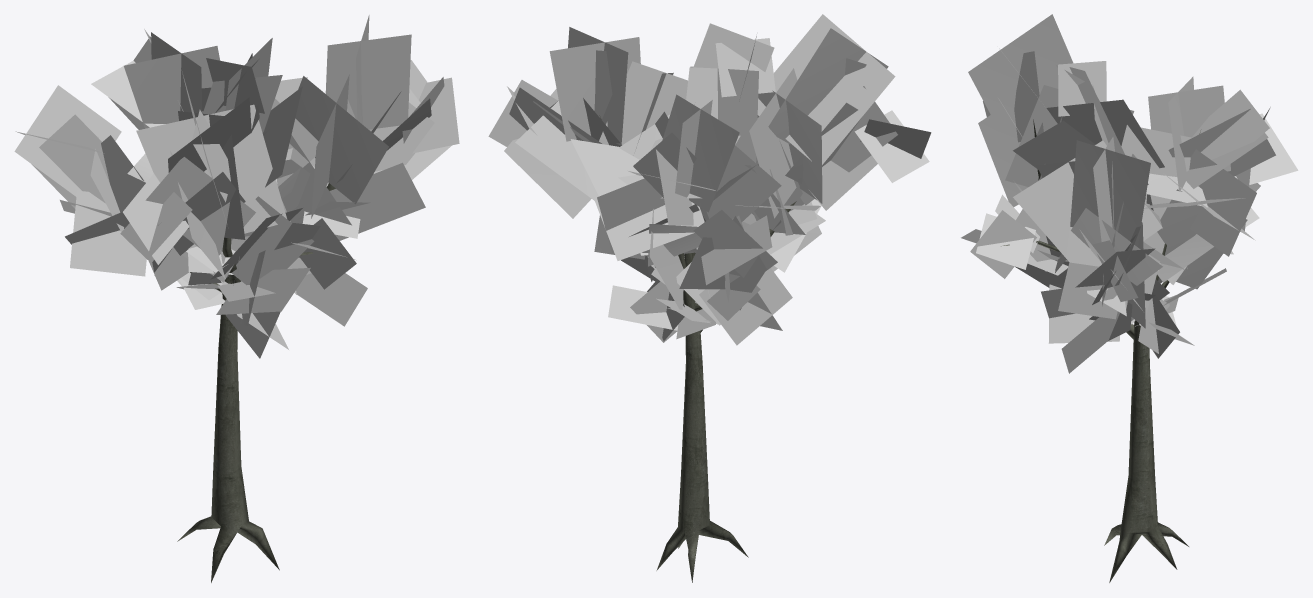
File: Bleech_01.fbx
The picture shows the model from 3 angles, left to right: view 1: azimuth 30°, elevation 25°; view 2: azimuth 150°, elevation 25°; view 3: azimuth 270°, elevation 25°; orthographic projection. The views are drawn at different scales.
Visible parts, largest first — view 1: bleech_01.001; view 2: bleech_01.001; view 3: bleech_01.001.
Part boxes in pixels (x1,y1,x2,y2): bleech_01.001: (14, 15, 459, 582); bleech_01.001: (488, 14, 931, 582); bleech_01.001: (961, 14, 1298, 582).
Bounding box in the file's own units: 14.36 × 19.34 × 11.58.
